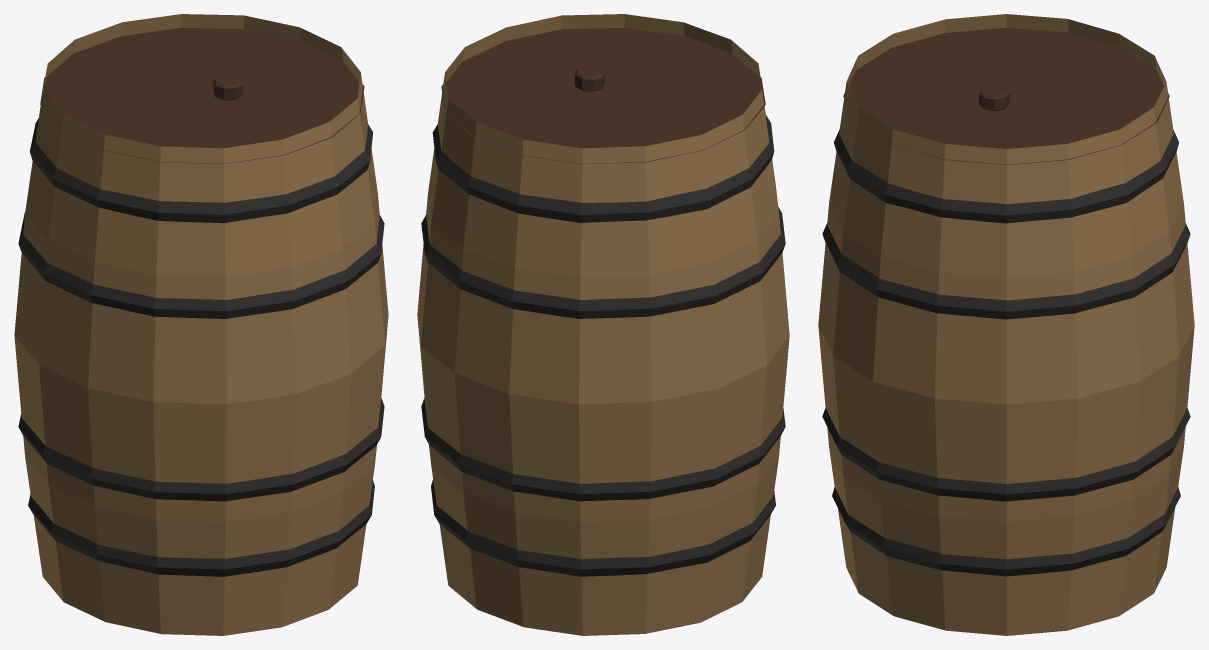
Rendered from water_cask.glb.
The picture shows the model from 3 angles, left to right: view 1: azimuth 30°, elevation 25°; view 2: azimuth 150°, elevation 25°; view 3: azimuth 270°, elevation 25°; orthographic projection.
Parts seen in each view (by area): view 1: water_cask; view 2: water_cask; view 3: water_cask.
Boxes of the visible parts, x1=… form: water_cask: x1=14, y1=14, x2=388, y2=635; water_cask: x1=417, y1=14, x2=789, y2=635; water_cask: x1=818, y1=14, x2=1194, y2=635.
Size of the model in its own units: 0.56 by 0.8 by 0.56.
